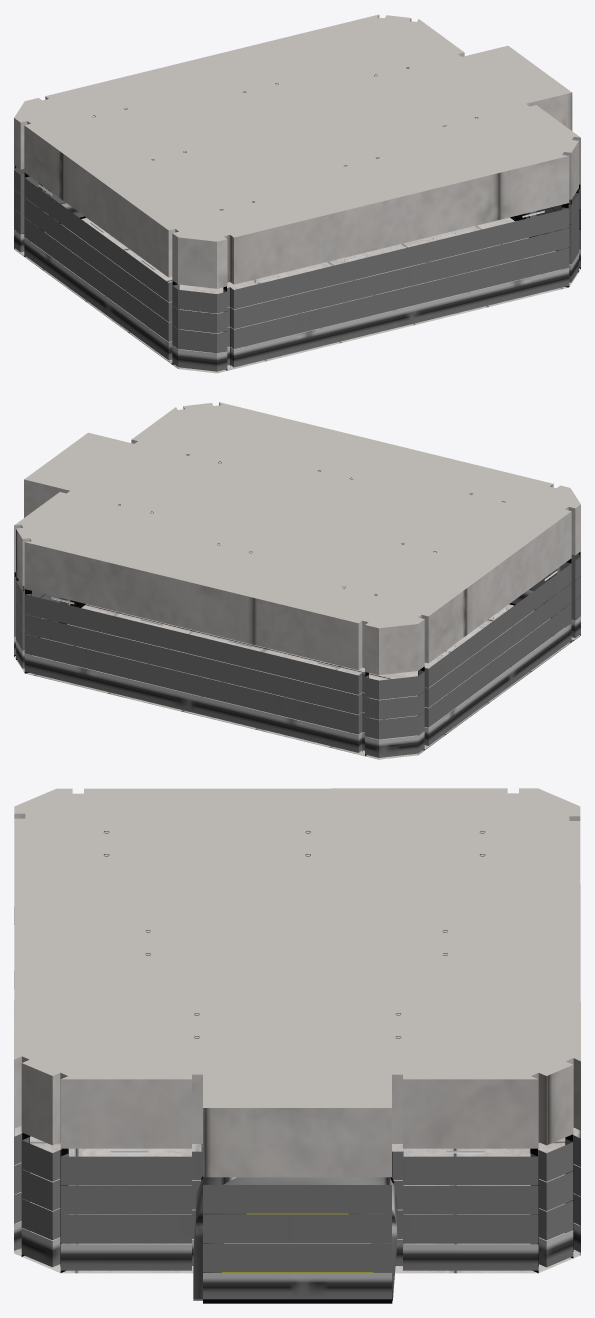
Rendered from Lobby_Model.fbx.
3 renders of one model, top to bottom at view 1: azimuth 30°, elevation 25°; view 2: azimuth 150°, elevation 25°; view 3: azimuth 270°, elevation 25°, orthographic. The views are drawn at different scales.
Visible parts, largest first — view 1: Lobby_Model; view 2: Lobby_Model; view 3: Lobby_Model.
Part boxes in pixels (<box>): Lobby_Model: <box>14,14,580,373</box>; Lobby_Model: <box>14,402,580,759</box>; Lobby_Model: <box>14,788,580,1303</box>.
Size of the model in its own units: 1054 by 302 by 790.
